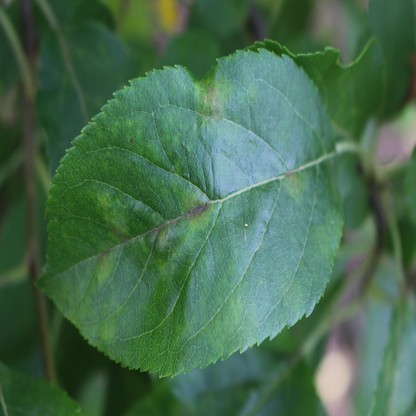scab: (123, 119, 181, 173), (196, 66, 231, 124), (92, 190, 129, 235), (181, 190, 214, 239), (95, 245, 121, 282), (281, 169, 308, 199), (160, 230, 170, 244)
